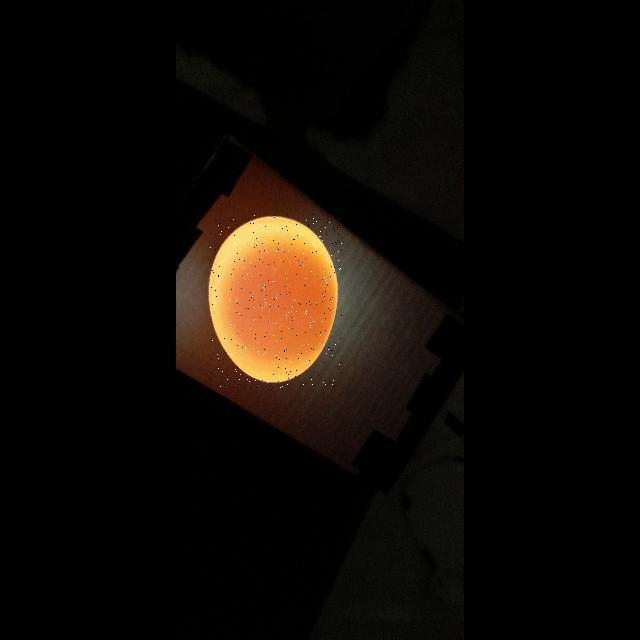A - Good: (210, 214, 342, 390)
